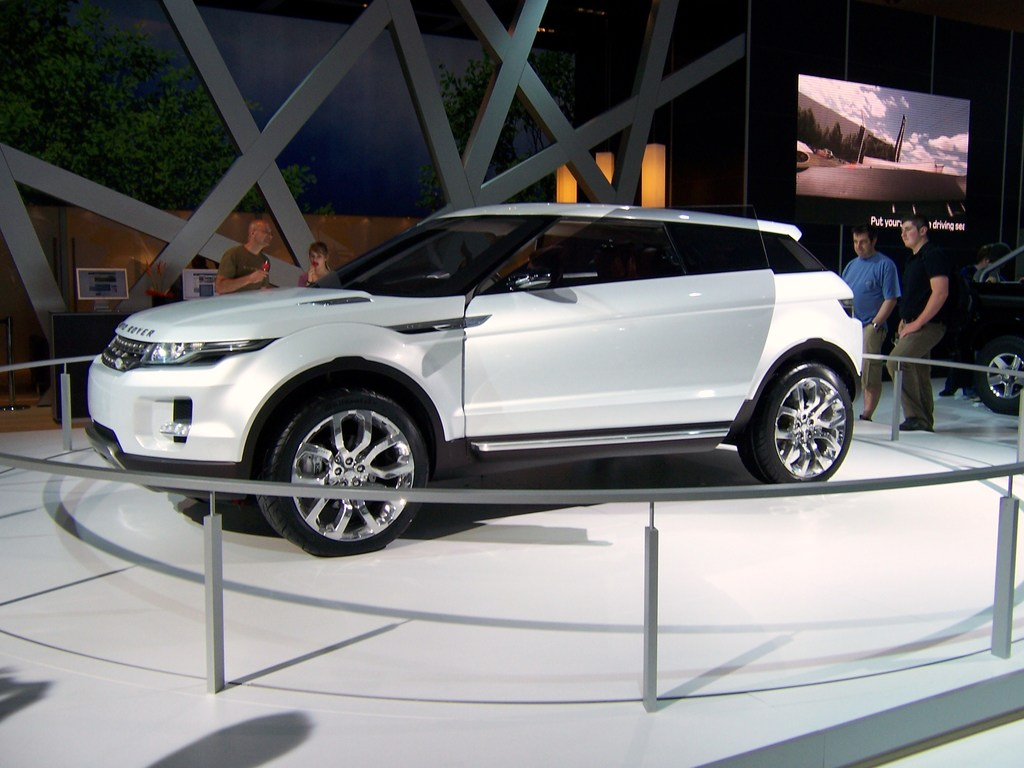Person: (884, 215, 951, 433), (841, 224, 901, 421), (938, 243, 1013, 398), (214, 219, 280, 296), (299, 242, 336, 287)
